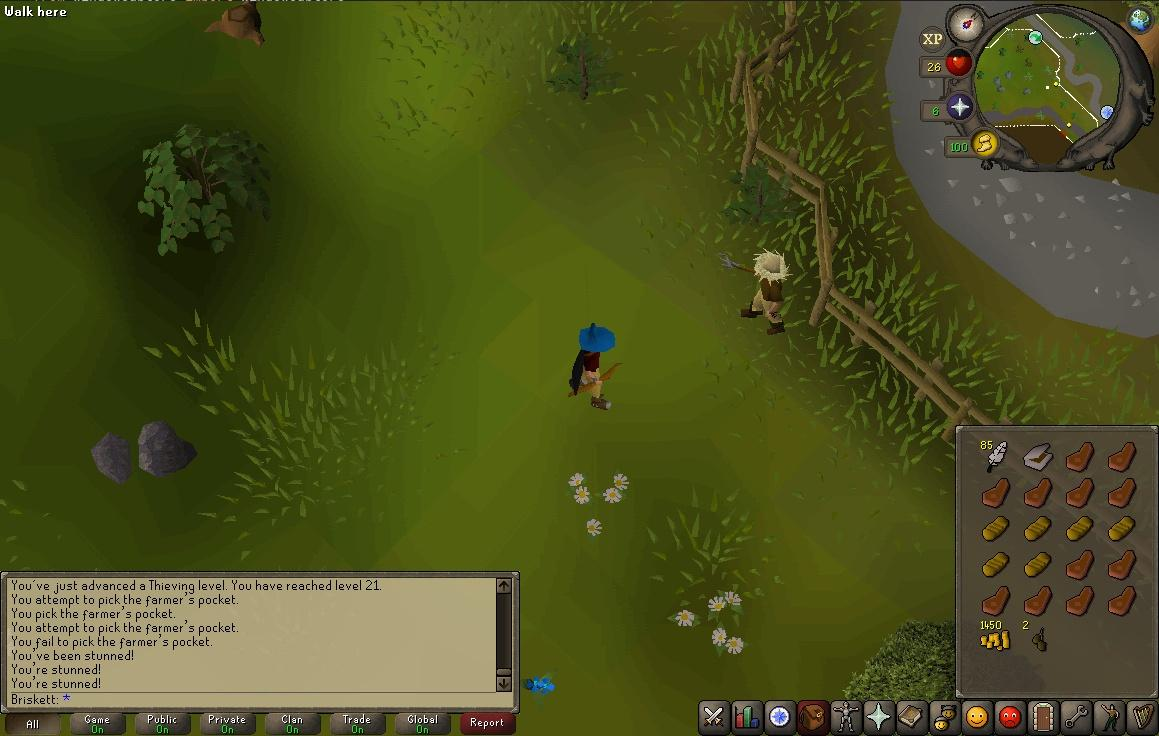Farmer: (719, 249, 793, 336)
